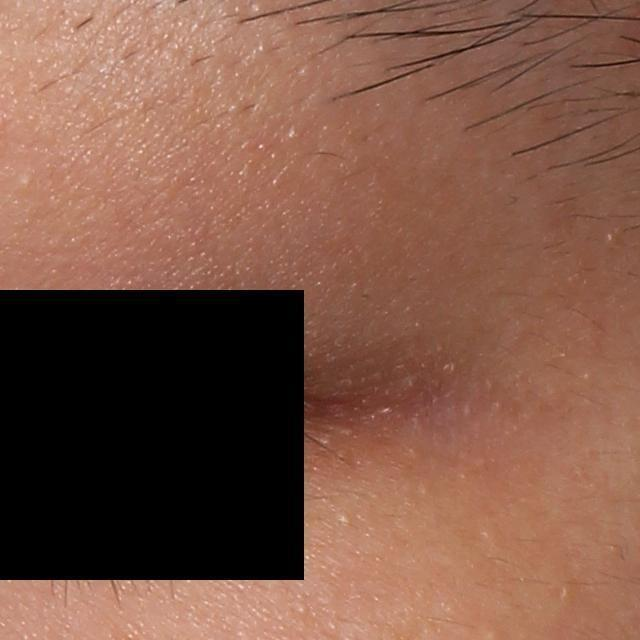comedo: (14, 175, 34, 192)
other: (336, 512, 353, 527)
